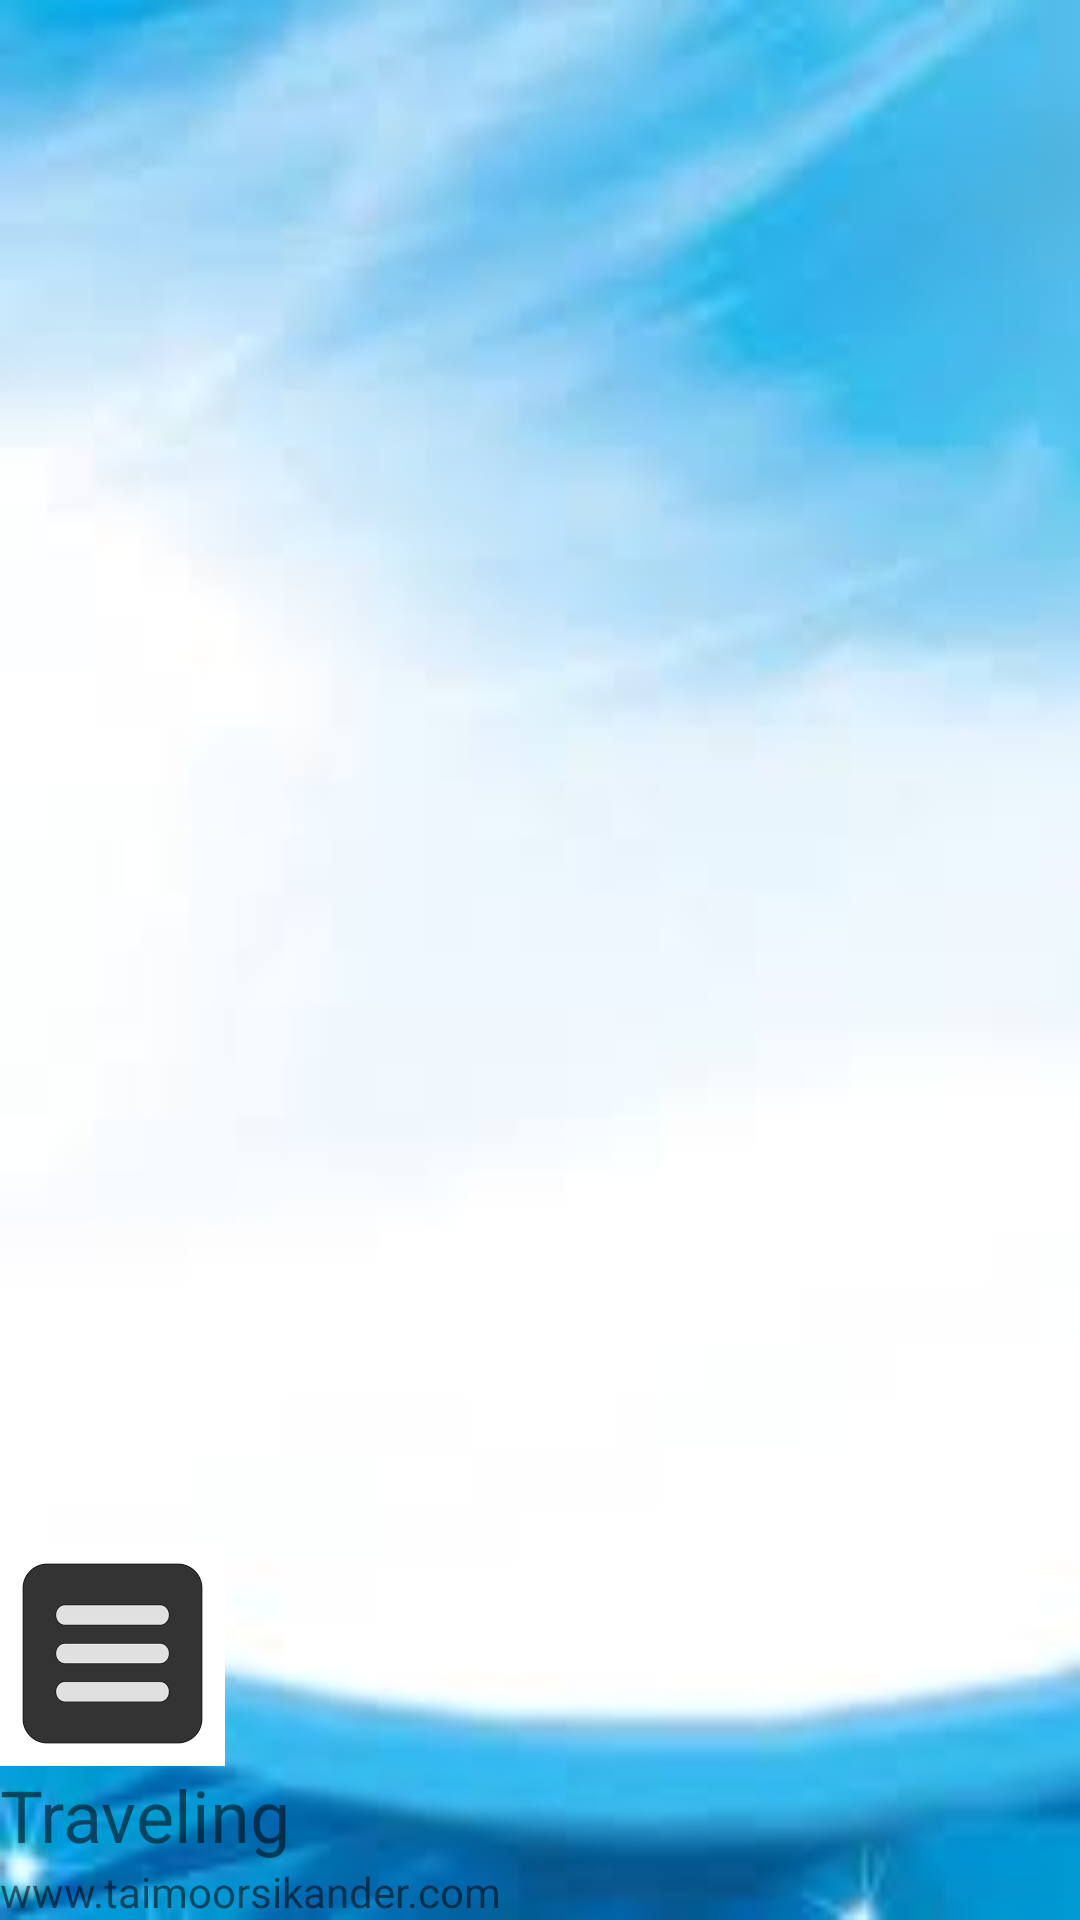

Named icons in this screenshot (1080w x 1920h) and their bounding boxes, rect(x1, y1, x2, y2):
bar: rect(22, 1563, 203, 1744)
